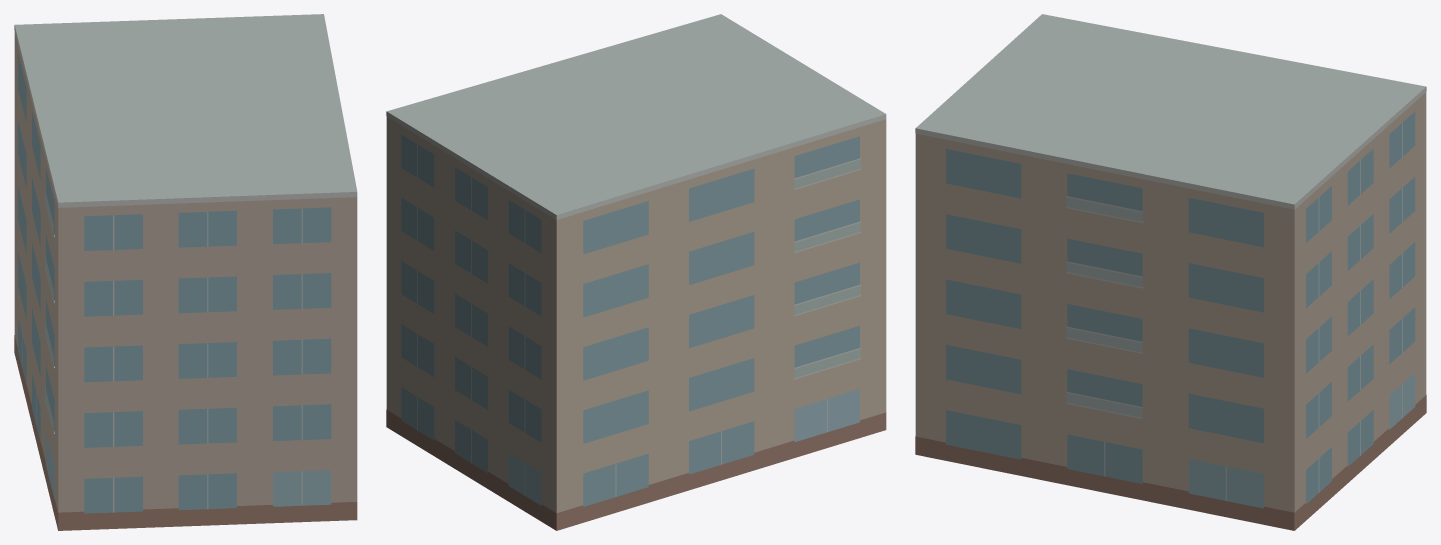
Rendered from survey-upis-32671047.glb.
3 renders of one model, left to right at view 1: azimuth 30°, elevation 25°; view 2: azimuth 150°, elevation 25°; view 3: azimuth 270°, elevation 25°, orthographic. The views are drawn at different scales.
Parts seen in each view (by area): view 1: survey-upis-32671047.tmp; view 2: survey-upis-32671047.tmp; view 3: survey-upis-32671047.tmp.
Boxes of the visible parts, left/top/right/bottom form: survey-upis-32671047.tmp: left=14, top=14, right=357, bottom=530; survey-upis-32671047.tmp: left=386, top=14, right=886, bottom=530; survey-upis-32671047.tmp: left=915, top=14, right=1426, bottom=530.
Bounding box in the file's own units: 19.29 × 15.4 × 21.86.
